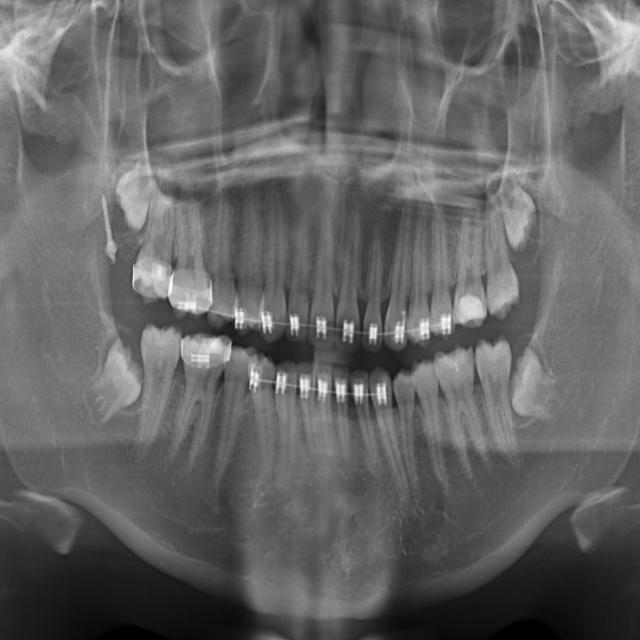3M ESPE Implant: (105, 151, 160, 237)
AGS Medikal Implant: (362, 220, 383, 353)
AMerOss Implant: (383, 182, 413, 352)
Amalgam filling: (404, 200, 431, 346)
Anthogyr Implant: (421, 204, 456, 336)
Bicon Implant: (449, 203, 488, 326)
BioHorizons Implant: (483, 189, 520, 318)
BioLife Implant: (495, 169, 543, 252)
Biomet 3i Implant: (506, 343, 566, 424)
Blue Sky Bio Implant: (474, 334, 522, 469)
Camlog Implant: (432, 342, 495, 485)
Caries: (128, 177, 184, 303)
Composite filling: (413, 360, 456, 495)
Cowellmedi Implant: (392, 367, 427, 492)
Crown: (366, 364, 413, 504)
DENTSPLY Implant: (349, 367, 383, 478)
Dentatus Implant: (334, 364, 352, 468)
Dentis Implant: (315, 361, 341, 468)
Dentium Implant: (295, 359, 329, 477)
Euroteknika Implant: (274, 360, 301, 478)
Filling: (249, 352, 277, 476)
Frontier Implant: (193, 339, 259, 504)
Hiossen Implant: (167, 198, 218, 320)
Implant: (132, 323, 184, 465)
Implant Direct: (150, 328, 233, 479)
Keystone Dental Implant: (75, 335, 159, 433)
MIS Implant: (206, 189, 242, 331)
Mandible: (235, 181, 267, 333)
Maxilla: (260, 169, 293, 342)
Megagen Implant: (285, 198, 314, 343)
Neodent Implant: (306, 203, 347, 351)
Neoss Implant: (334, 206, 364, 352)
